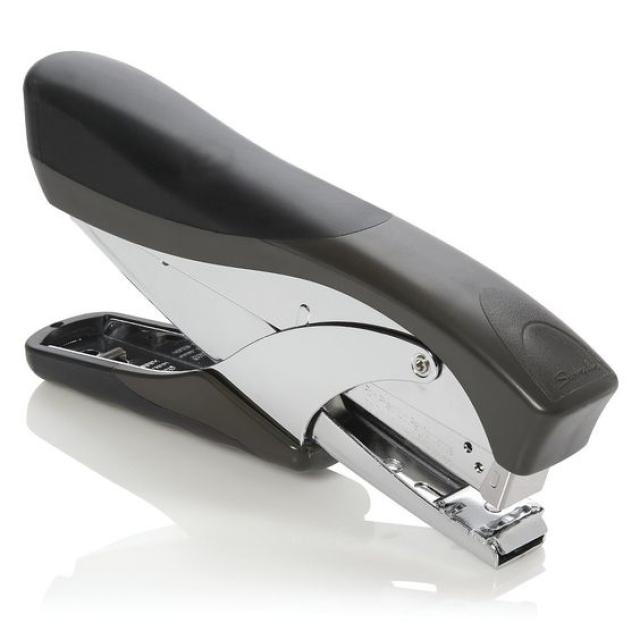Stapler: (0, 5, 613, 596)
